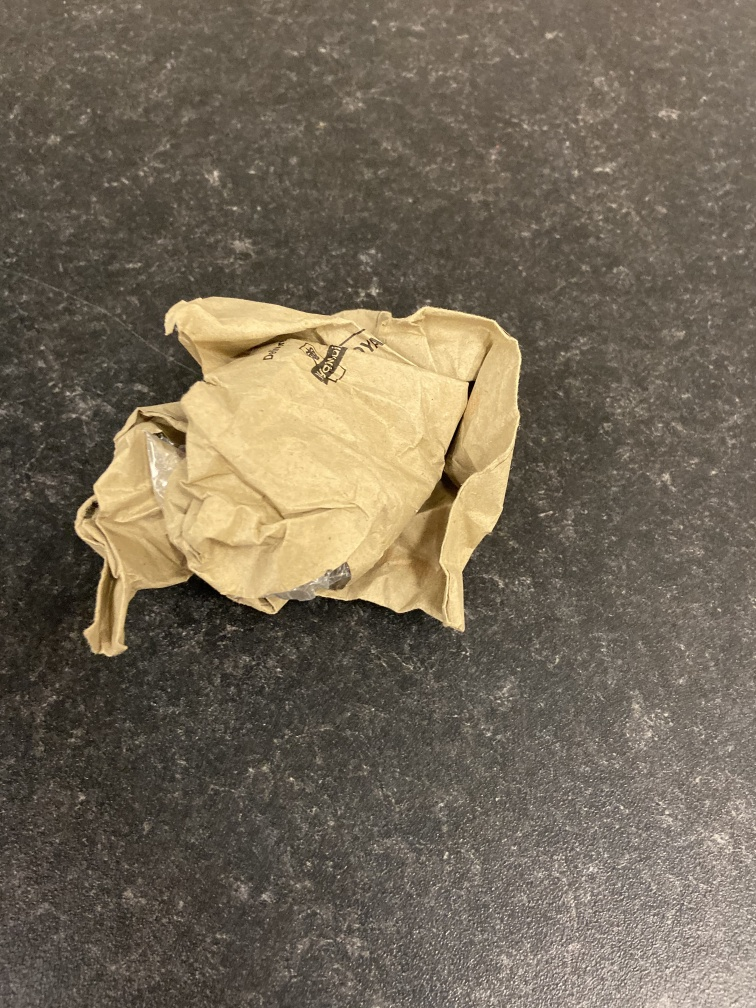paper_brown: (69, 283, 532, 660)
